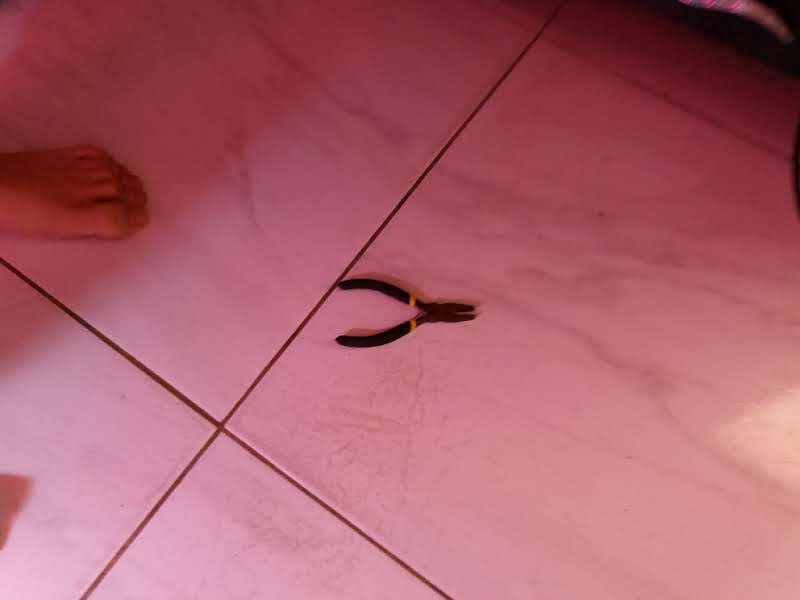Pinzas: (337, 274, 476, 346)
